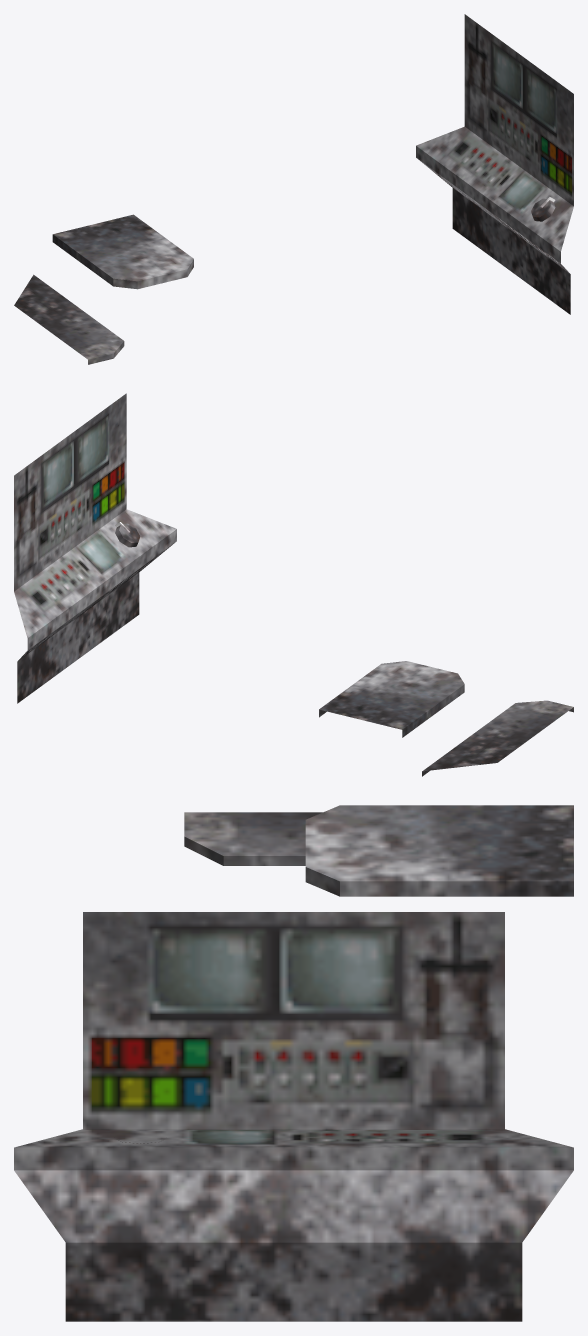
The model's file is Einrichtung.fbx.
3 views of the same model, one above another, from view 1: azimuth 30°, elevation 25°; view 2: azimuth 150°, elevation 25°; view 3: azimuth 270°, elevation 25° (orthographic). The views are drawn at different scales.
Parts seen in each view (by area): view 1: Einrichtung; view 2: Einrichtung; view 3: Einrichtung.
Part boxes in pixels (box(x1,y1,x2,y2)): Einrichtung: box(14, 14, 573, 364); Einrichtung: box(14, 393, 573, 776); Einrichtung: box(14, 805, 573, 1321).
Size of the model in its own units: 446 by 200 by 243.
Materials: 1 (1 with a texture image).
